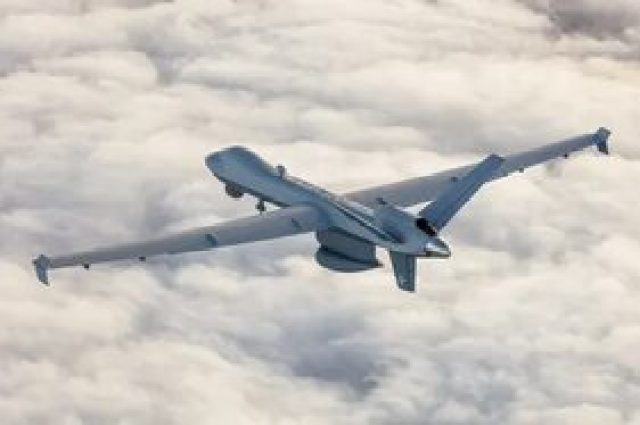military drone: (32, 127, 611, 293)
